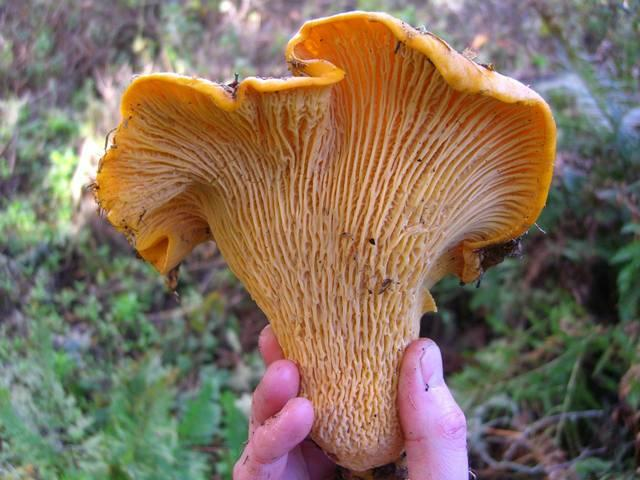Edible Mushroom: (87, 9, 558, 473)
